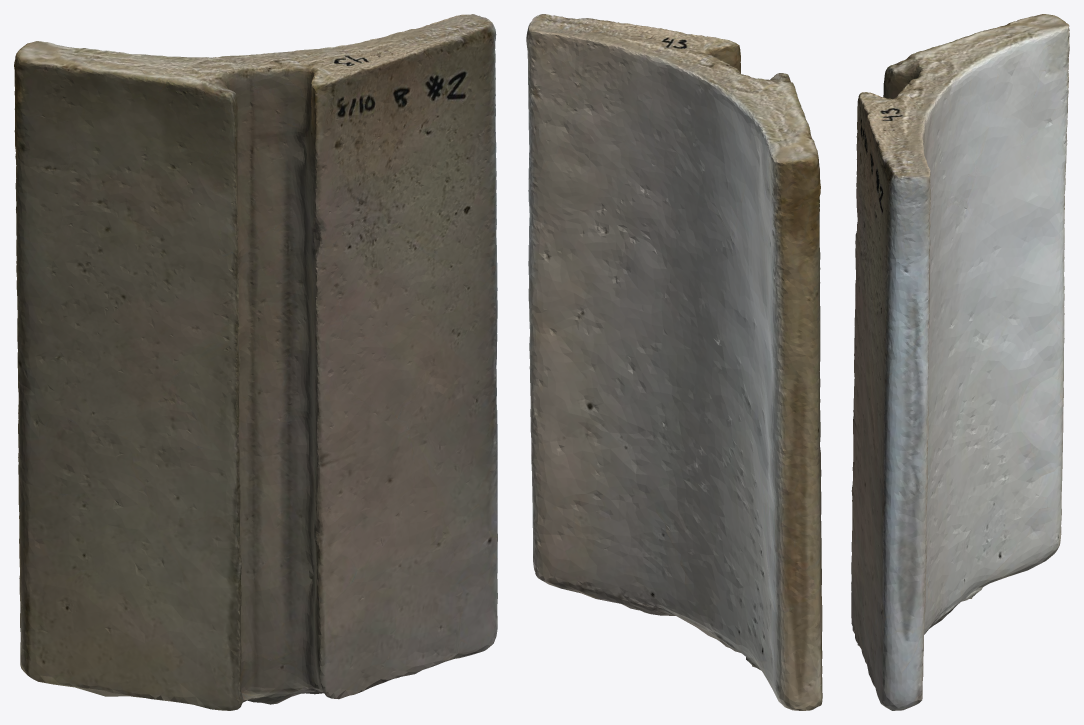
File: Pixel 43.glb
3 views of the same model, side by side, from view 1: azimuth 30°, elevation 25°; view 2: azimuth 150°, elevation 25°; view 3: azimuth 270°, elevation 25° (orthographic). The views are drawn at different scales.
Size of the model in its own units: 0.1721 by 0.2643 by 0.0947.
Materials: 1 (1 with a texture image).
